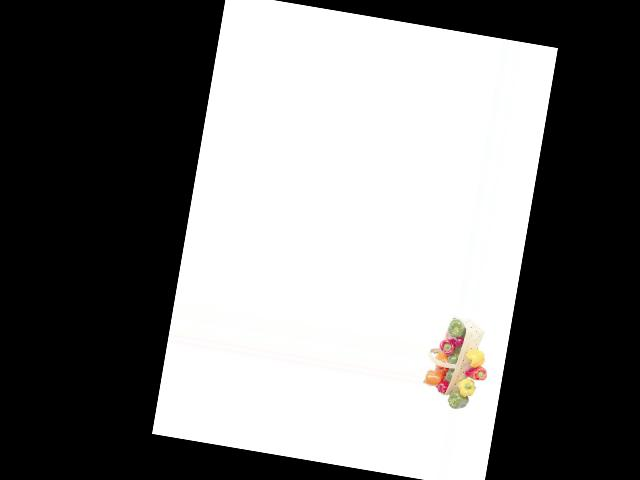bell_pepper: (446, 318, 465, 340)
